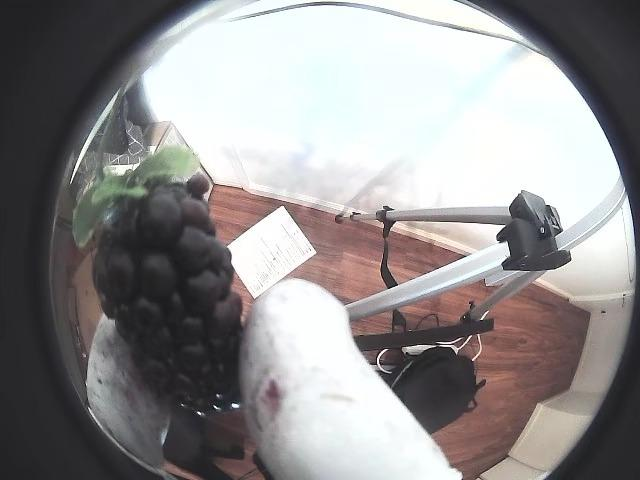berry: (95, 181, 241, 400)
gripper: (241, 279, 459, 479), (87, 315, 178, 468)
lense: (0, 0, 210, 479), (468, 0, 639, 278), (551, 284, 639, 479)
